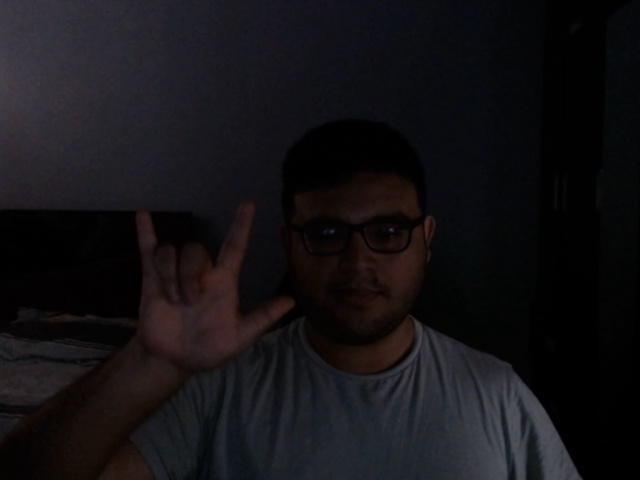I love you: (121, 196, 297, 381)
